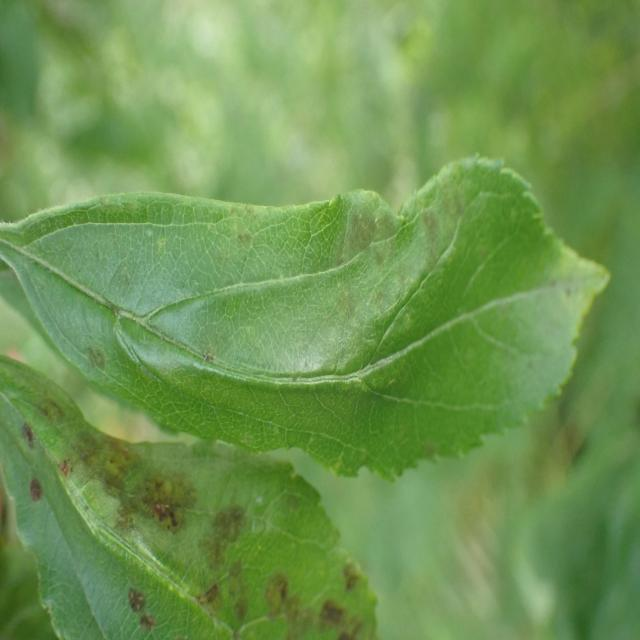scab: (54, 192, 575, 429), (0, 391, 387, 639)
